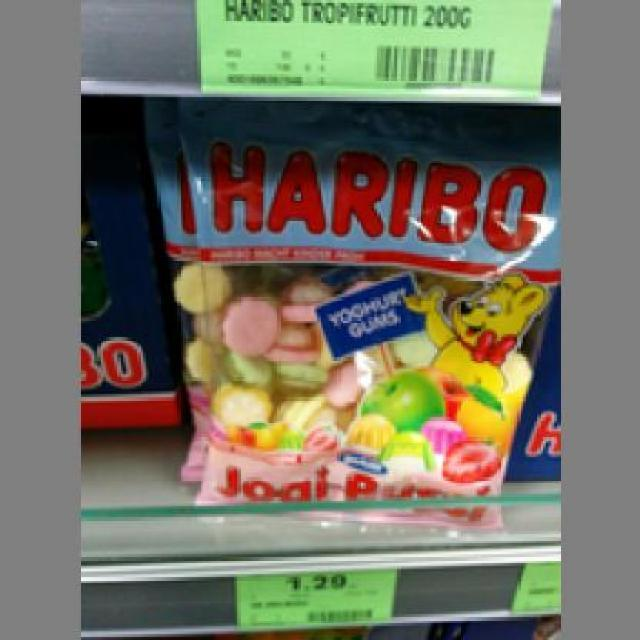Candy: (177, 93, 557, 530)
